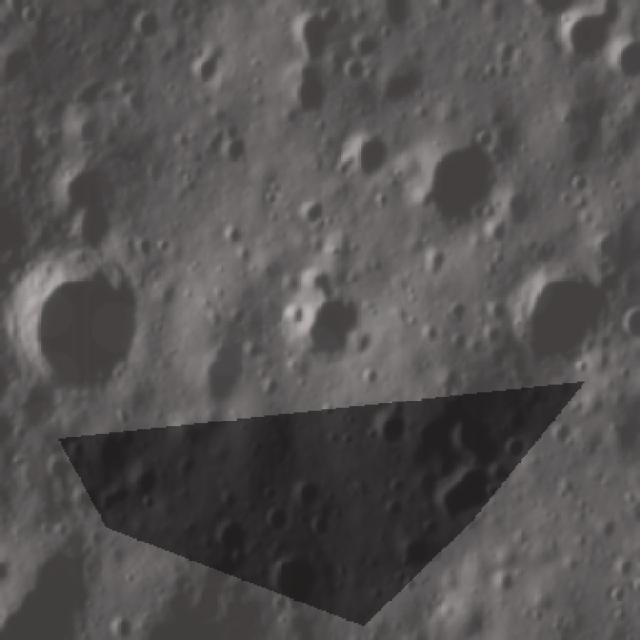crater: (14, 261, 149, 399), (416, 132, 507, 239), (513, 274, 604, 368), (52, 161, 130, 253), (296, 292, 366, 366), (425, 460, 501, 526), (194, 334, 254, 412), (262, 548, 328, 618), (557, 9, 614, 72), (340, 136, 398, 187), (283, 13, 334, 64), (286, 70, 336, 121), (440, 408, 495, 454), (182, 41, 228, 93), (126, 465, 174, 512), (209, 512, 256, 558), (391, 532, 442, 574), (370, 404, 416, 450), (209, 126, 253, 174), (606, 38, 639, 88), (253, 502, 289, 540), (300, 198, 332, 234), (288, 478, 317, 516)
